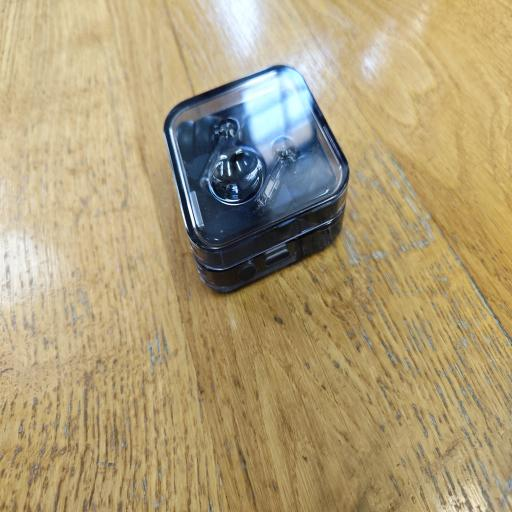CASTI: (159, 59, 355, 299)
